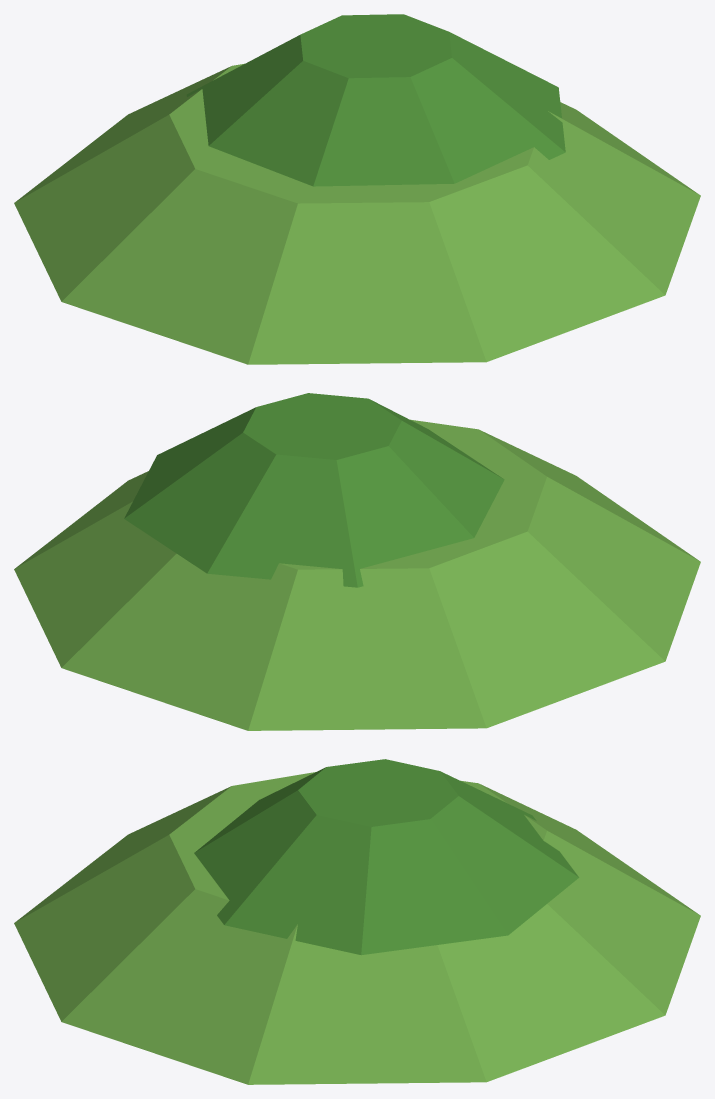
The model's file is hill.glb.
3 renders of one model, top to bottom at view 1: azimuth 30°, elevation 25°; view 2: azimuth 150°, elevation 25°; view 3: azimuth 270°, elevation 25°, orthographic.
Visible parts, largest first — view 1: hill; view 2: hill; view 3: hill.
Part boxes in pixels (x1,y1,x2,y2): hill: (14, 14, 700, 364); hill: (14, 393, 700, 730); hill: (14, 759, 700, 1084).
Bounding box in the file's own units: 17.53 × 4.98 × 17.72.
